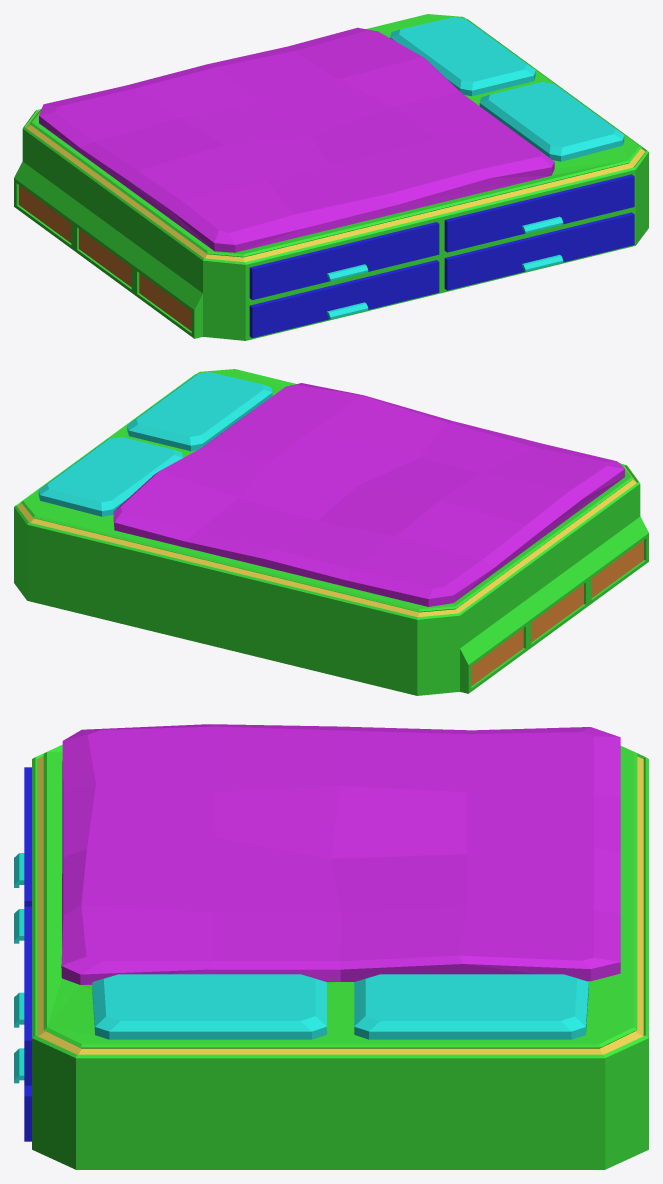
File: Bed_02.fbx
The picture shows the model from 3 angles, top to bottom: view 1: azimuth 30°, elevation 25°; view 2: azimuth 150°, elevation 25°; view 3: azimuth 270°, elevation 25°; orthographic projection. The views are drawn at different scales.
Visible parts, largest first — view 1: Bed_02; view 2: Bed_02; view 3: Bed_02.
Boxes of the visible parts, box(x1,y1,x2,y2) form: Bed_02: box(14, 14, 648, 340); Bed_02: box(14, 369, 648, 695); Bed_02: box(14, 724, 648, 1169).
Size of the model in its own units: 333 by 69.45 by 275.
